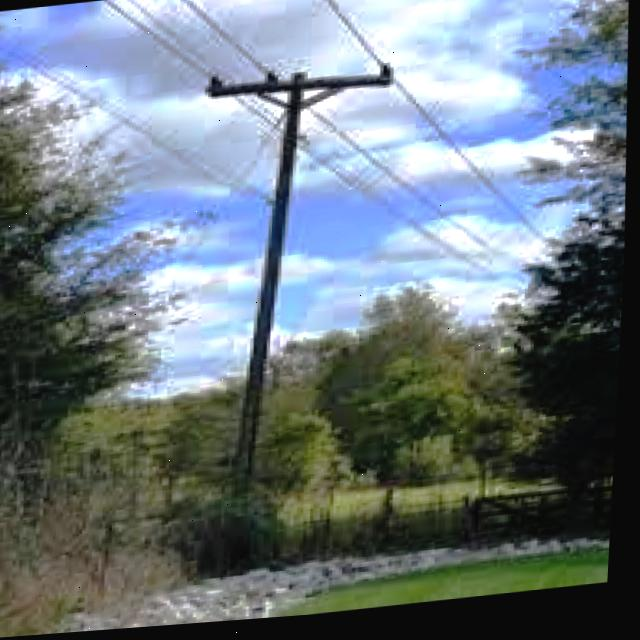poles: (209, 82, 387, 498)
wires: (306, 92, 529, 293), (3, 0, 282, 99), (102, 104, 261, 216), (311, 0, 381, 67)
